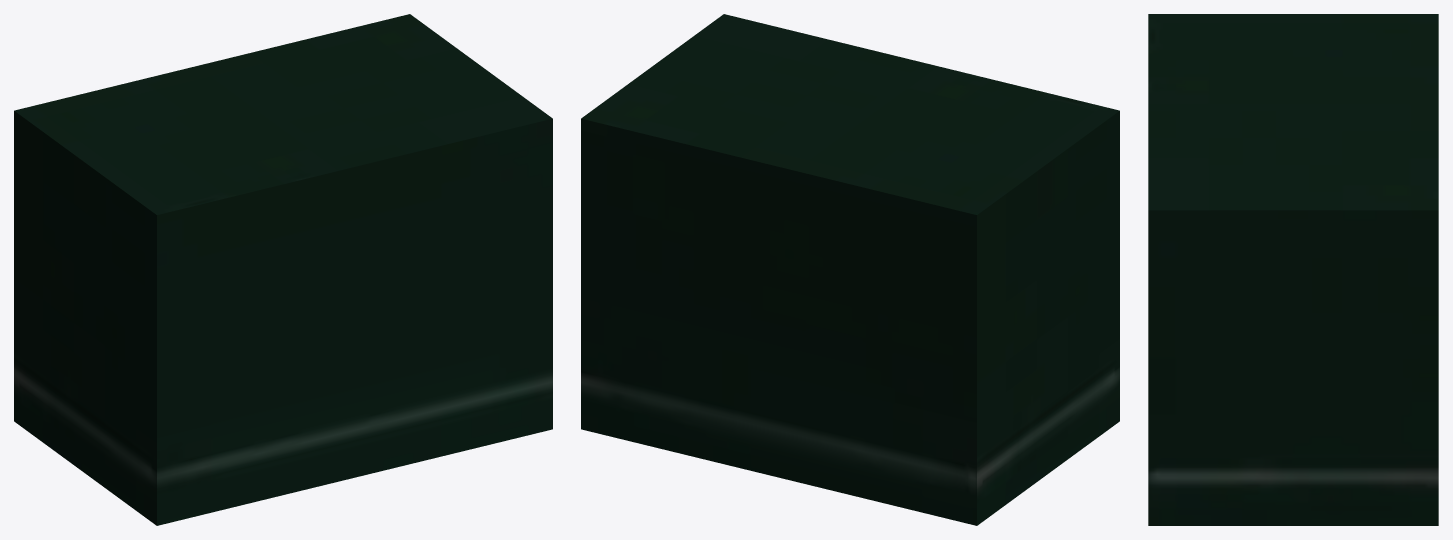
The model's file is mode_button_1__button_stem.glb.
The picture shows the model from 3 angles, left to right: view 1: azimuth 30°, elevation 25°; view 2: azimuth 150°, elevation 25°; view 3: azimuth 270°, elevation 25°; orthographic projection.
Visible parts, largest first — view 1: geometry_0; view 2: geometry_0; view 3: geometry_0.
Boxes of the visible parts, x1,y1,x2,y2 form: geometry_0: (14,14,552,525); geometry_0: (581,14,1119,525); geometry_0: (1148,14,1438,525).
Bounding box in the file's own units: 0.016 × 0.012 × 0.01.
Materials: 1 (1 with a texture image).
